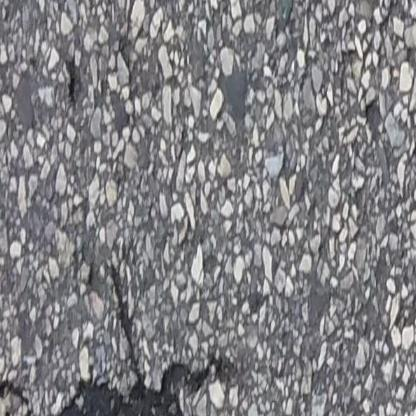Cracks: (0, 278, 223, 416)
